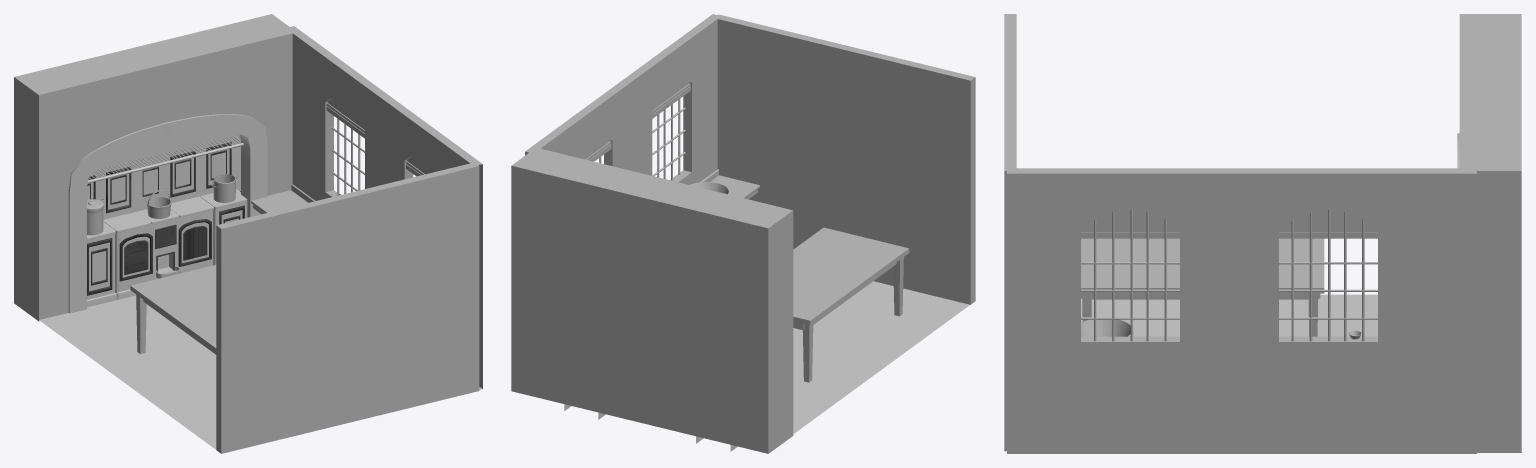
The model's file is kitchen.fbx.
The picture shows the model from 3 angles, left to right: view 1: azimuth 30°, elevation 25°; view 2: azimuth 150°, elevation 25°; view 3: azimuth 270°, elevation 25°; orthographic projection. The views are drawn at different scales.
Visible parts, largest first — view 1: wall3, wall, wall2, cook_background, ground, stone_arc, cook_background_small, desk, window_wood, window_rebar, wood_window, rebar_cook (+5 smaller); view 2: wall, wall3, wall2, ground, desk, window_wood, desk_leg, window_rebar, wood_window; view 3: wall2, wall, desk, ground, window_rebar, window_wood, wall3, big_bowl, desk_wood, desk_leg.
Boxes of the visible parts, x1,y1,x2,y2 form: wall3: (216,163,479,453); wall: (14,14,295,321); wall2: (286,26,482,389); cook_background: (87,133,247,307); ground: (39,295,216,449); stone_arc: (68,114,267,313); cook_background_small: (87,142,244,295); desk: (130,265,216,352); window_wood: (326,97,435,176); window_rebar: (331,119,364,193); wood_window: (251,184,315,213); rebar_cook: (89,134,240,179); wall: (511,148,793,453); wall3: (714,14,975,304); wall2: (525,14,720,184); ground: (793,281,969,433); desk: (793,227,909,325); window_wood: (578,78,690,161); desk_leg: (802,257,903,382); window_rebar: (599,99,685,180); wood_window: (700,169,759,198); wall2: (1007,168,1476,453); wall: (1459,14,1521,452); desk: (1081,238,1324,293); ground: (1081,294,1377,336); window_rebar: (1081,209,1377,341); window_wood: (1081,209,1377,238); wall3: (1004,14,1016,451); big_bowl: (1081,319,1133,336); desk_wood: (1092,293,1308,299); desk_leg: (1082,293,1318,336).
Size of the model in its own units: 305 by 267 by 418.
